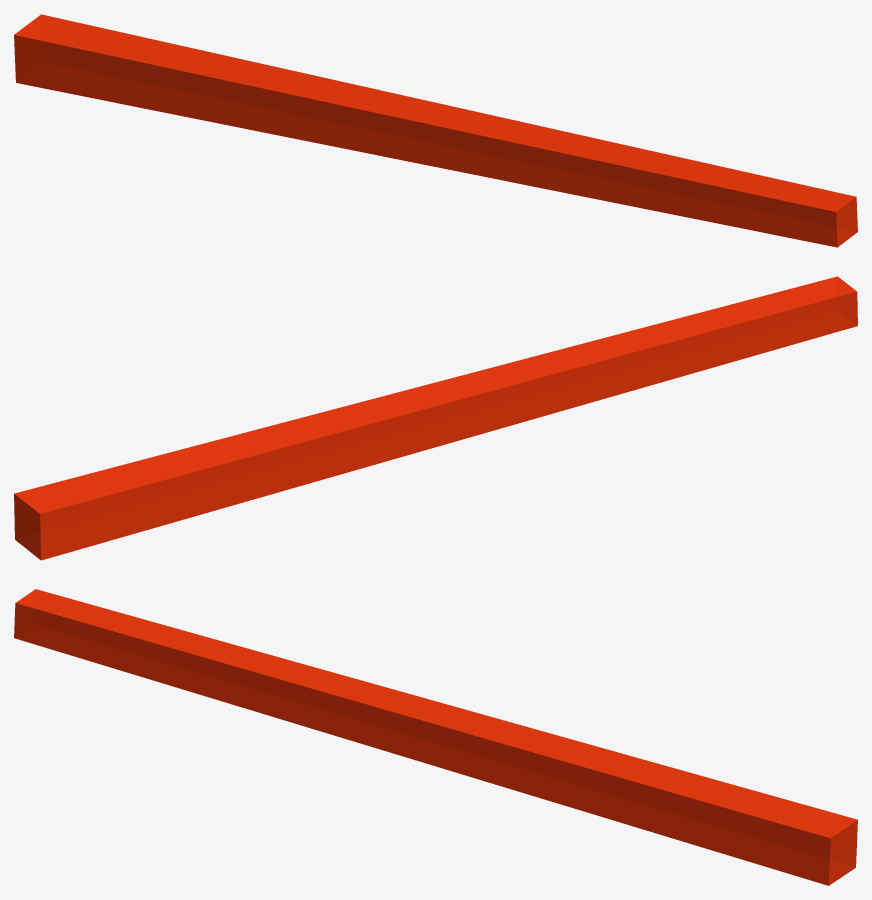
Rendered from Event_420107950_EBrechit_11.fbx.
3 views of the same model, one above another, from view 1: azimuth 90°, elevation 25°; view 2: azimuth 150°, elevation 25°; view 3: azimuth 270°, elevation 25° (orthographic).
Visible parts, largest first — view 1: Model; view 2: Model; view 3: Model.
Boxes of the visible parts, box(x1,y1,x2,y2) form: Model: box(14, 14, 857, 247); Model: box(14, 276, 857, 560); Model: box(14, 589, 857, 885).
Size of the model in its own units: 0.755 by 0.1187 by 1.2.
